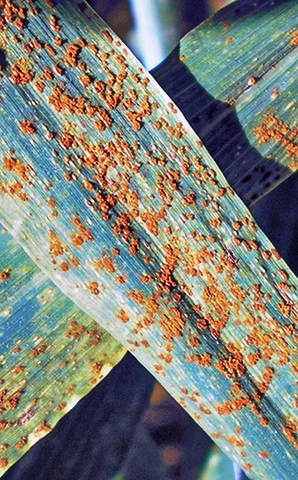Leaf Rust: (1, 20, 298, 436)
